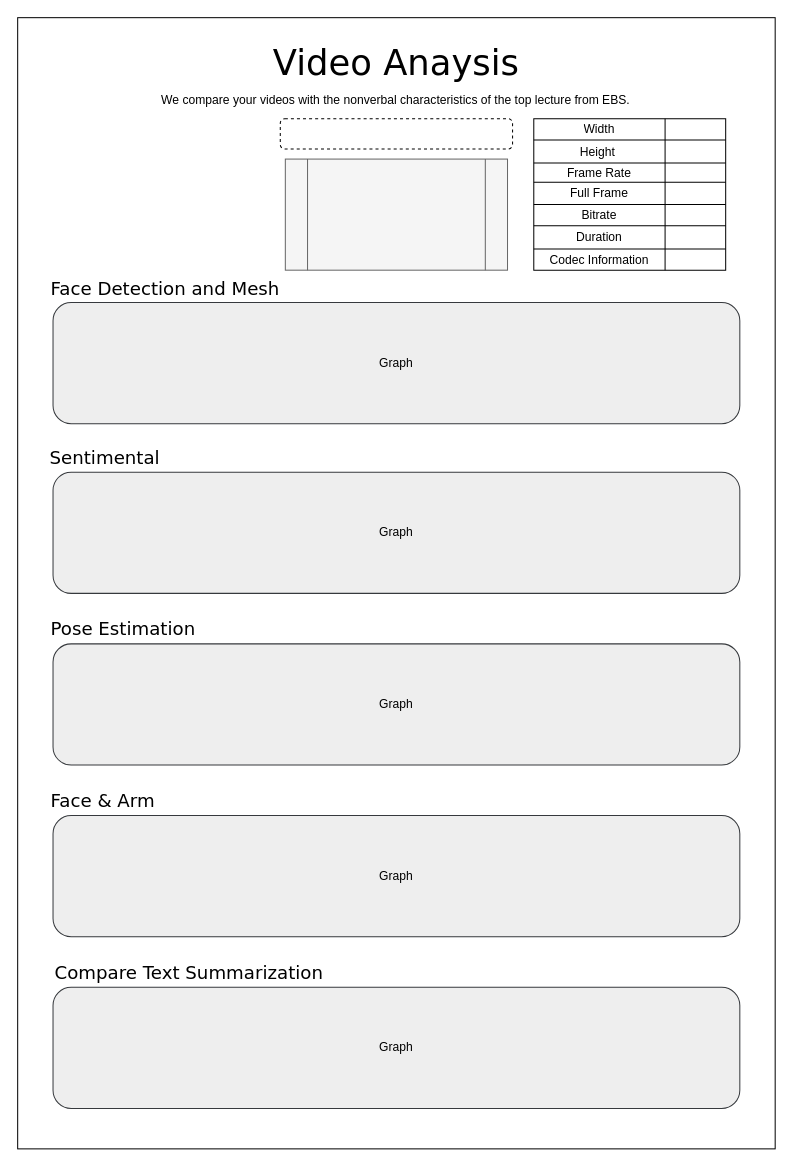
Image size: 793x1167. Some labels were removed from this diagram. The shapes that lost their labels are listed below. From the top down, each one's centre as x and y in pixels, then its label:
point 396,133: Drag and Drop or Select a Video
point 396,214: Video
